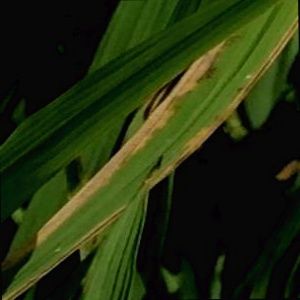Leaf_Blast: (149, 58, 223, 170)
